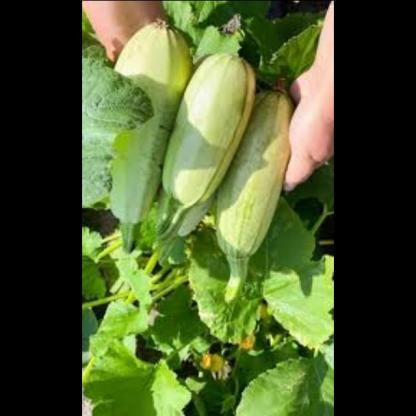vegetable marrow: (212, 62, 293, 307), (102, 9, 174, 267), (169, 34, 242, 262)
